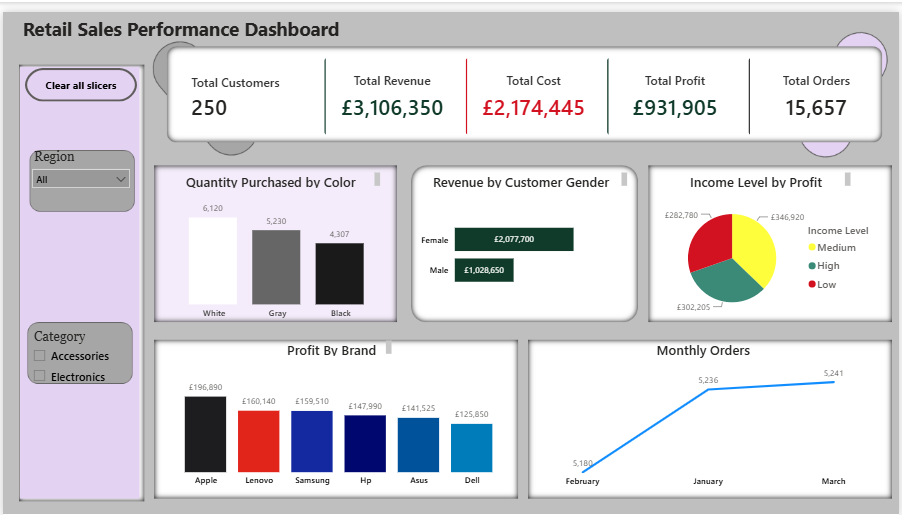

This screenshot's page, from the dashboard's own definition file:
{"tool":"powerbi","page":{"name":"Dashboard","canvas":[1280,720],"ordinal":0},"visuals":[{"type":"clusteredColumnChart","fields":{"Category":["Products.Brand"],"Y":["Dax Table.Profit Measure"]},"box":[224,512,512,176],"z":0},{"type":"cardVisual","fields":{"Data":["Dax Table.TotalCustomer","Dax Table.Revenue measure","Dax Table.TotalCost Measure","Dax Table.Profit Measure","Dax Table.Total Quantity"]},"box":[240,48,1040,144],"z":1000},{"type":"clusteredColumnChart","fields":{"Category":["Products.Color"],"Y":["Dax Table.Total Quantity"]},"box":[224,256,336,192],"z":2000},{"type":"barChart","fields":{"Category":["Customers.Gender"],"Y":["Dax Table.Revenue measure"]},"box":[592,256,304,176],"z":3000},{"type":"lineChart","fields":{"Category":["DateTable.Month"],"Y":["Dax Table.Total Orders"]},"box":[752,496,512,192],"z":4000},{"type":"pieChart","fields":{"Category":["Customers.IncomeLevel"],"Y":["Dax Table.Profit Measure"]},"box":[928,256,336,192],"z":5000},{"type":"textbox","box":[16,0,496,48],"z":6000},{"type":"textbox","box":[256,224,288,32],"z":7000},{"type":"textbox","box":[608,224,288,32],"z":8000},{"type":"textbox","box":[976,224,240,32],"z":9000},{"type":"textbox","box":[928,464,208,48],"z":10000},{"type":"textbox","box":[400,464,160,32],"z":11000},{"type":"slicer","fields":{"Values":["Customers.Region"]},"box":[32,192,160,128],"z":12000},{"type":"slicer","fields":{"Values":["Products.Category"]},"box":[32,448,160,176],"z":13000},{"type":"actionButton","box":[32,80,160,48],"z":17001}]}

Visuals, with their boxes in screenshot pixels (x1, y1, x2, y2), scaled from the page's 1280x720 canvas onto the 902x515 screenshot:
clusteredColumnChart - Products.Brand x Dax Table.Profit Measure: x1=158 y1=366 x2=519 y2=492
cardVisual - Dax Table.TotalCustomer x Dax Table.Revenue measure: x1=169 y1=34 x2=901 y2=137
clusteredColumnChart - Products.Color x Dax Table.Total Quantity: x1=158 y1=183 x2=395 y2=320
barChart - Customers.Gender x Dax Table.Revenue measure: x1=417 y1=183 x2=631 y2=309
lineChart - DateTable.Month x Dax Table.Total Orders: x1=530 y1=355 x2=891 y2=492
pieChart - Customers.IncomeLevel x Dax Table.Profit Measure: x1=654 y1=183 x2=891 y2=320
textbox: x1=11 y1=0 x2=361 y2=34
textbox: x1=180 y1=160 x2=383 y2=183
textbox: x1=428 y1=160 x2=631 y2=183
textbox: x1=688 y1=160 x2=857 y2=183
textbox: x1=654 y1=332 x2=801 y2=366
textbox: x1=282 y1=332 x2=395 y2=355
slicer - Customers.Region: x1=23 y1=137 x2=135 y2=229
slicer - Products.Category: x1=23 y1=320 x2=135 y2=446
actionButton: x1=23 y1=57 x2=135 y2=92
